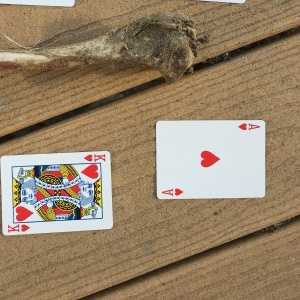card: (153, 119, 266, 200)
